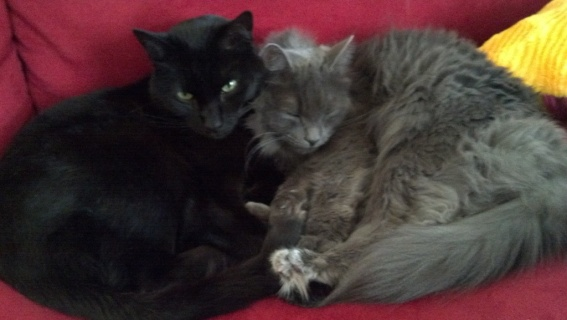Cat: (239, 22, 567, 307), (0, 9, 285, 320)
